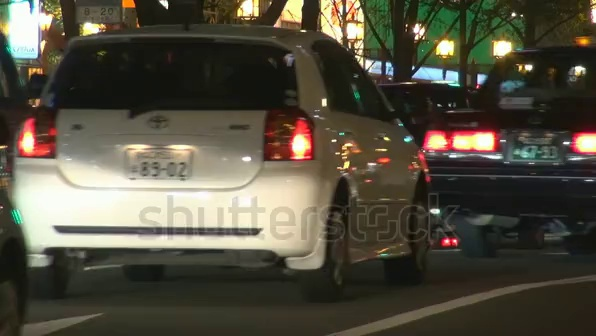licenseplate: (125, 159, 194, 182), (507, 136, 567, 162)
